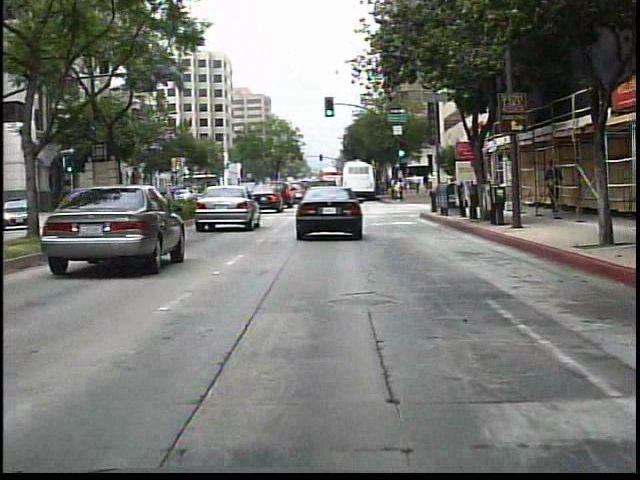person: (538, 156, 566, 221)
